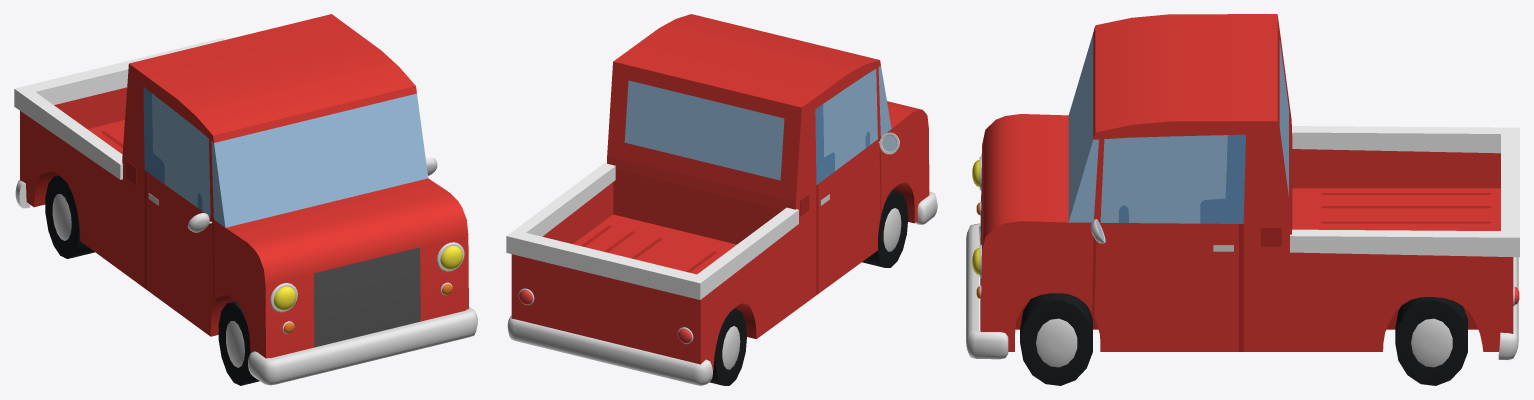
File: red_truck.glb
3 renders of one model, left to right at view 1: azimuth 30°, elevation 25°; view 2: azimuth 150°, elevation 25°; view 3: azimuth 270°, elevation 25°, orthographic. The views are drawn at different scales.
Parts seen in each view (by area): view 1: red_truck; view 2: red_truck; view 3: red_truck.
Part boxes in pixels (x1,y1,x2,y2): red_truck: (14,14,477,385); red_truck: (506,14,937,385); red_truck: (966,14,1519,385).
Size of the model in its own units: 2.47 by 2.35 by 4.4.
